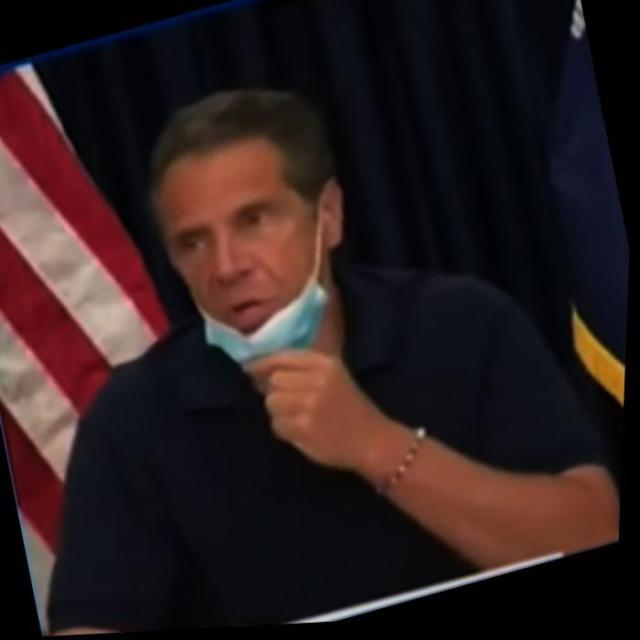hairnet: (170, 181, 348, 380)
